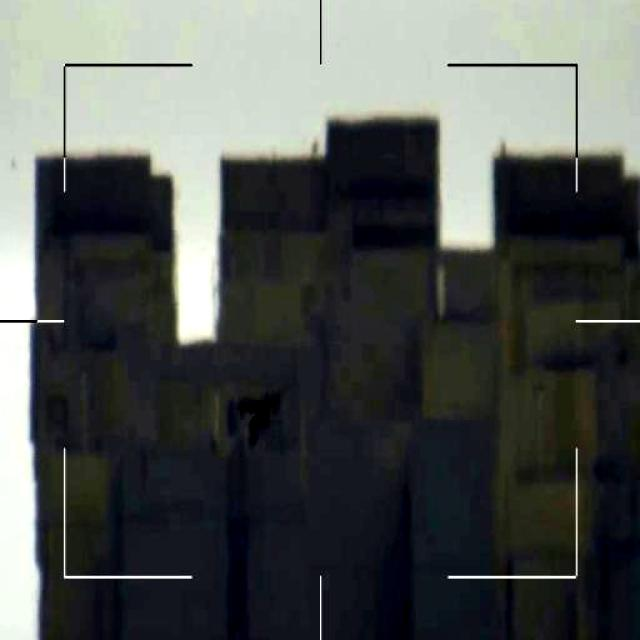bird: (245, 380, 299, 456)
